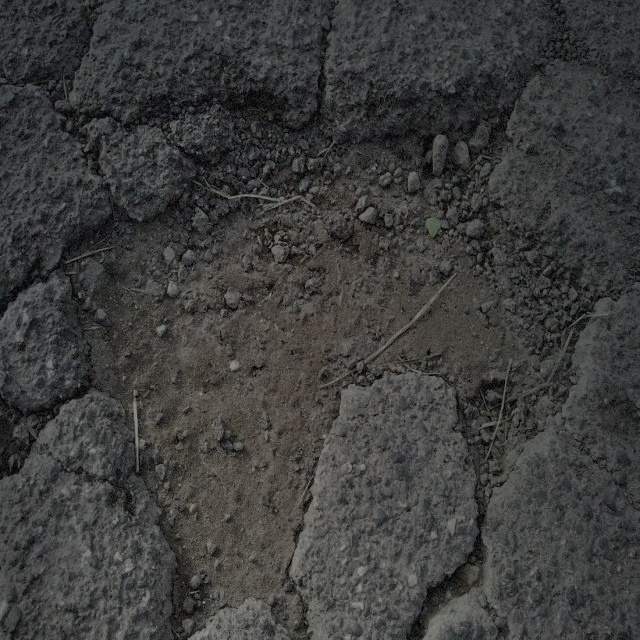pothole: (57, 98, 552, 562)
